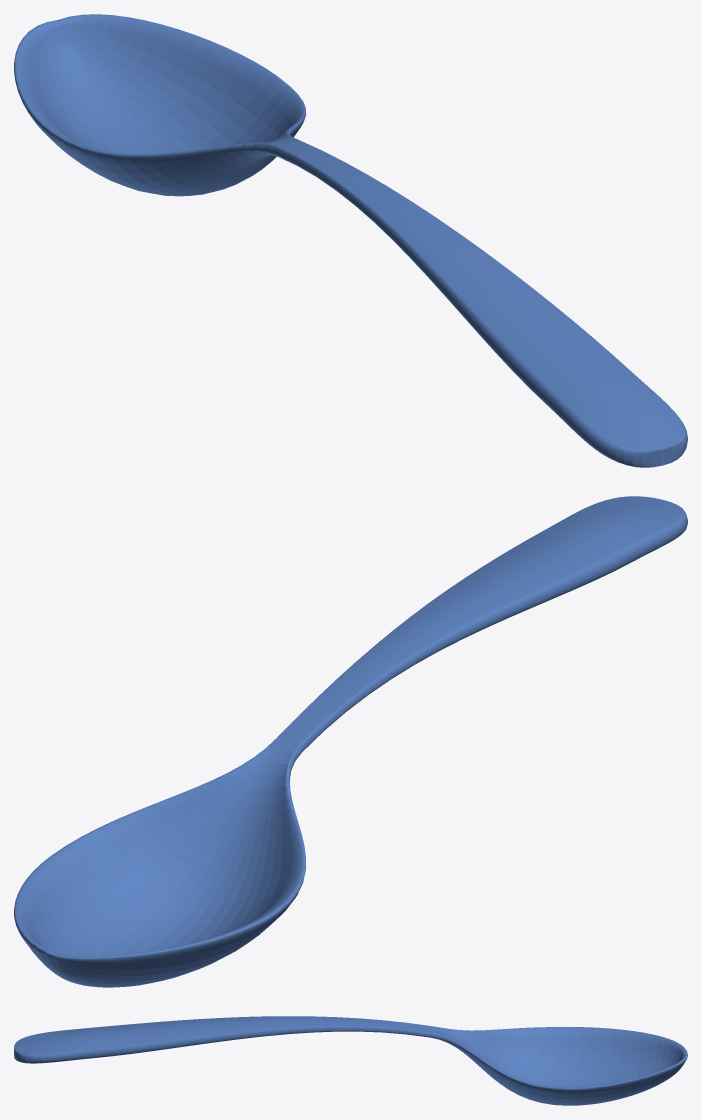
File: Spoon.gltf
The picture shows the model from 3 angles, top to bottom: view 1: azimuth 30°, elevation 25°; view 2: azimuth 150°, elevation 25°; view 3: azimuth 270°, elevation 25°; orthographic projection. The views are drawn at different scales.
Visible parts, largest first — view 1: Spoon; view 2: Spoon; view 3: Spoon.
Part boxes in pixels (x1,y1,x2,y2): Spoon: (14,14,687,467); Spoon: (14,496,687,987); Spoon: (14,1016,687,1105).
Size of the model in its own units: 0.264 by 0.155 by 1.21.
